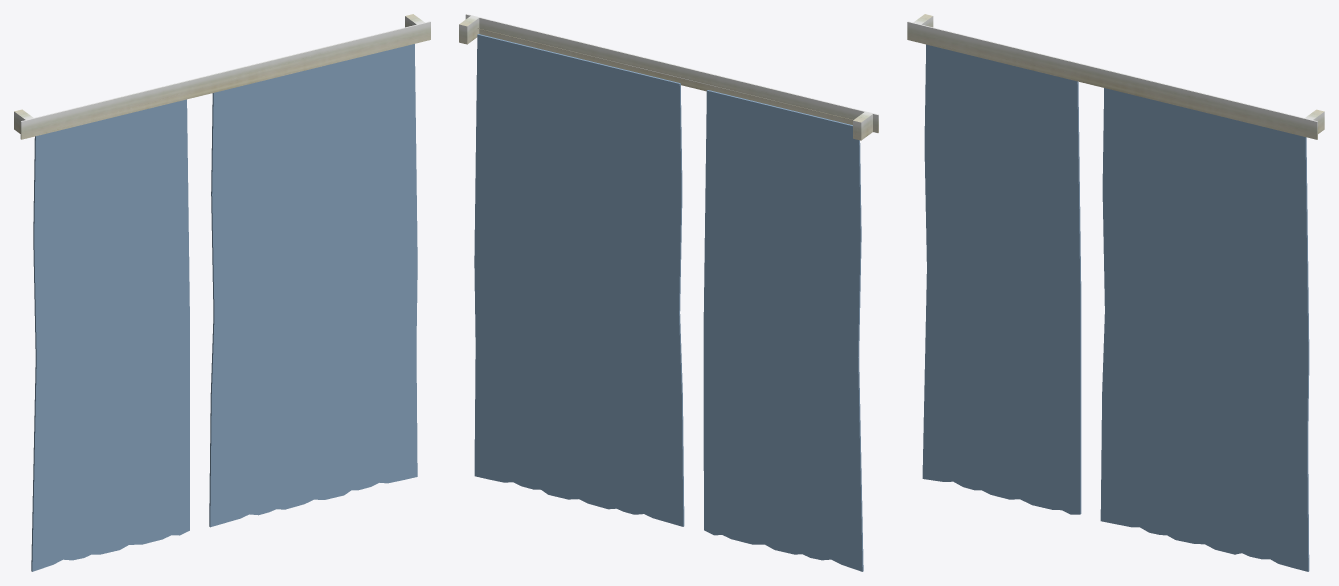
The model's file is curtains.FBX.
The picture shows the model from 3 angles, left to right: view 1: azimuth 30°, elevation 25°; view 2: azimuth 150°, elevation 25°; view 3: azimuth 330°, elevation 25°; orthographic projection.
Parts seen in each view (by area): view 1: Living_room_curtains_right, Living_room_curtains_left, Living_room_curtains; view 2: Living_room_curtains_right, Living_room_curtains_left, Living_room_curtains; view 3: Living_room_curtains_right, Living_room_curtains_left, Living_room_curtains.
Boxes of the visible parts, box(x1,y1,x2,y2) form: Living_room_curtains_right: box(209, 44, 417, 527); Living_room_curtains_left: box(31, 99, 189, 571); Living_room_curtains: box(14, 14, 430, 139); Living_room_curtains_right: box(474, 34, 684, 526); Living_room_curtains_left: box(703, 90, 863, 571); Living_room_curtains: box(459, 14, 878, 140); Living_room_curtains_right: box(1100, 88, 1309, 571); Living_room_curtains_left: box(922, 44, 1081, 514); Living_room_curtains: box(907, 14, 1324, 139).
Size of the model in its own units: 281 by 298 by 14.84.
